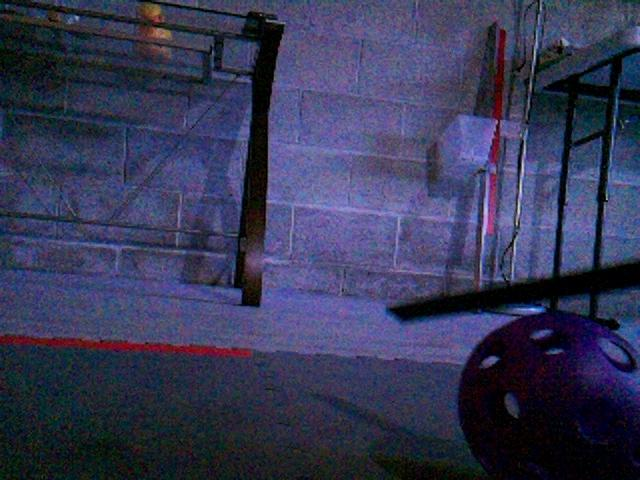Purple: (454, 310, 640, 478)
